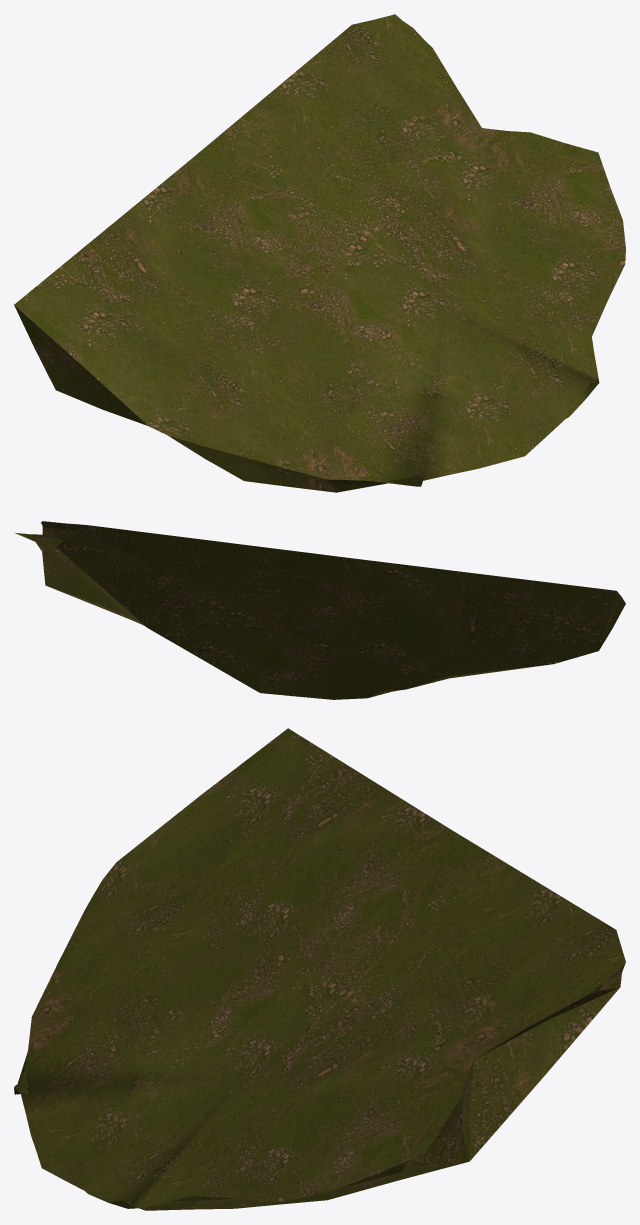
File: boulder_1.glb
3 renders of one model, top to bottom at view 1: azimuth 30°, elevation 25°; view 2: azimuth 150°, elevation 25°; view 3: azimuth 270°, elevation 25°, orthographic. The views are drawn at different scales.
Parts seen in each view (by area): view 1: boulder; view 2: boulder; view 3: boulder.
Boxes of the visible parts, box(x1,y1,x2,y2) form: boulder: box(14, 14, 625, 492); boulder: box(14, 521, 625, 699); boulder: box(14, 728, 625, 1210).
Size of the model in its own units: 2.82 by 1.06 by 1.97.
Materials: 1 (1 with a texture image).
